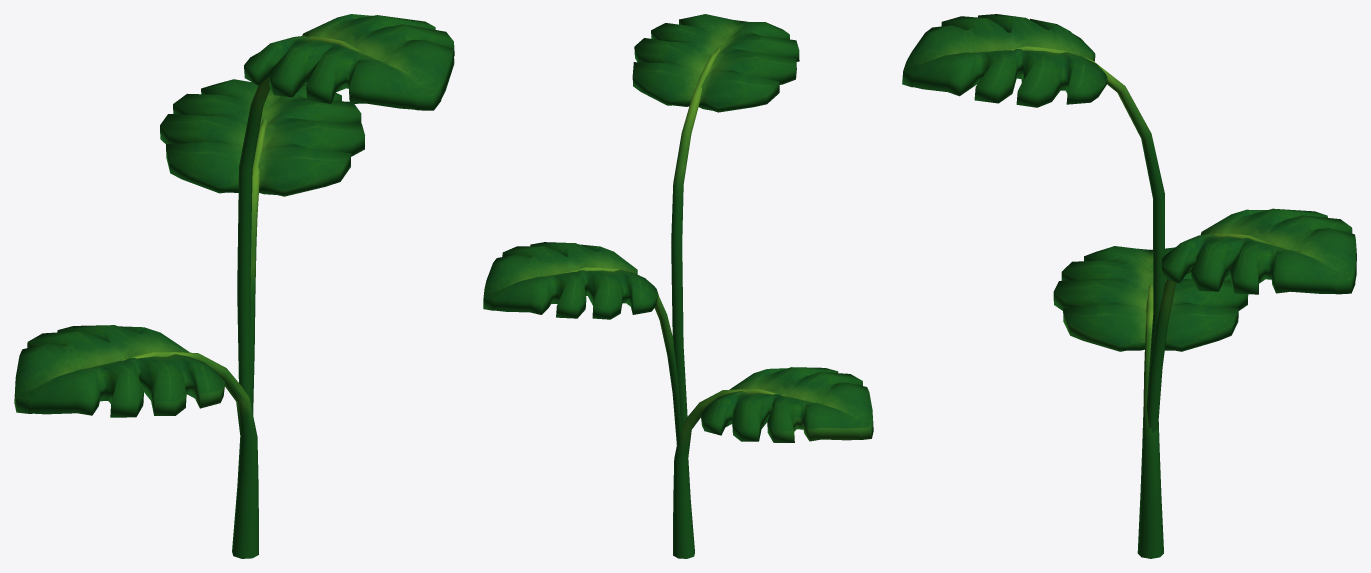
The model's file is CostelaDeAdao2.fbx.
3 renders of one model, left to right at view 1: azimuth 30°, elevation 25°; view 2: azimuth 150°, elevation 25°; view 3: azimuth 270°, elevation 25°, orthographic. The views are drawn at different scales.
Parts seen in each view (by area): view 1: CostelaDeAdao2; view 2: CostelaDeAdao2; view 3: CostelaDeAdao2.
Boxes of the visible parts, left/top/right/bottom form: CostelaDeAdao2: left=14, top=14, right=454, bottom=558; CostelaDeAdao2: left=483, top=14, right=873, bottom=558; CostelaDeAdao2: left=902, top=14, right=1356, bottom=558.
Size of the model in its own units: 277 by 380 by 294.
